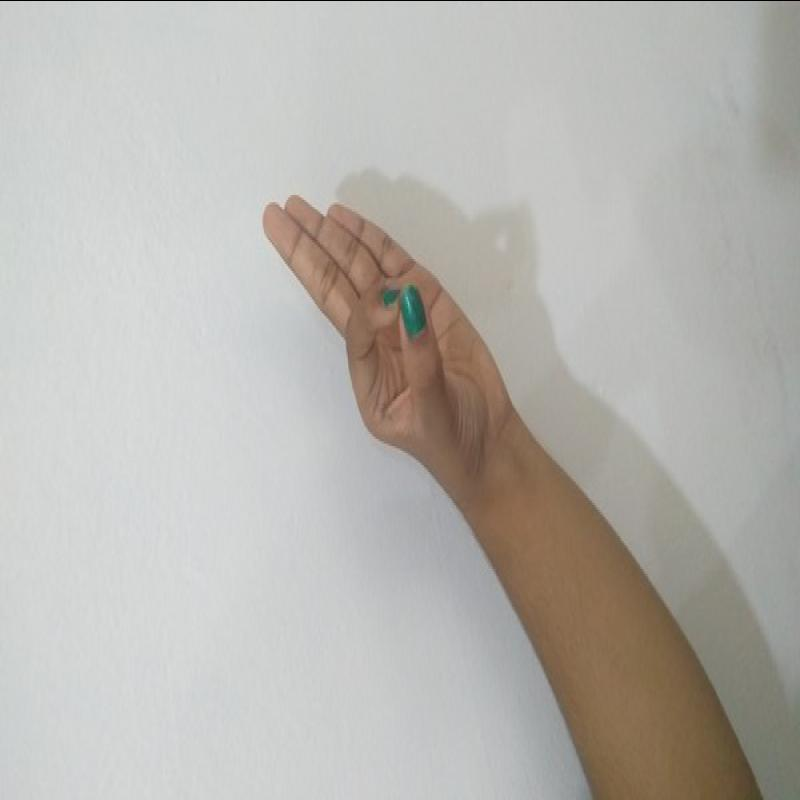Mudraakhyam: (248, 184, 532, 477)
